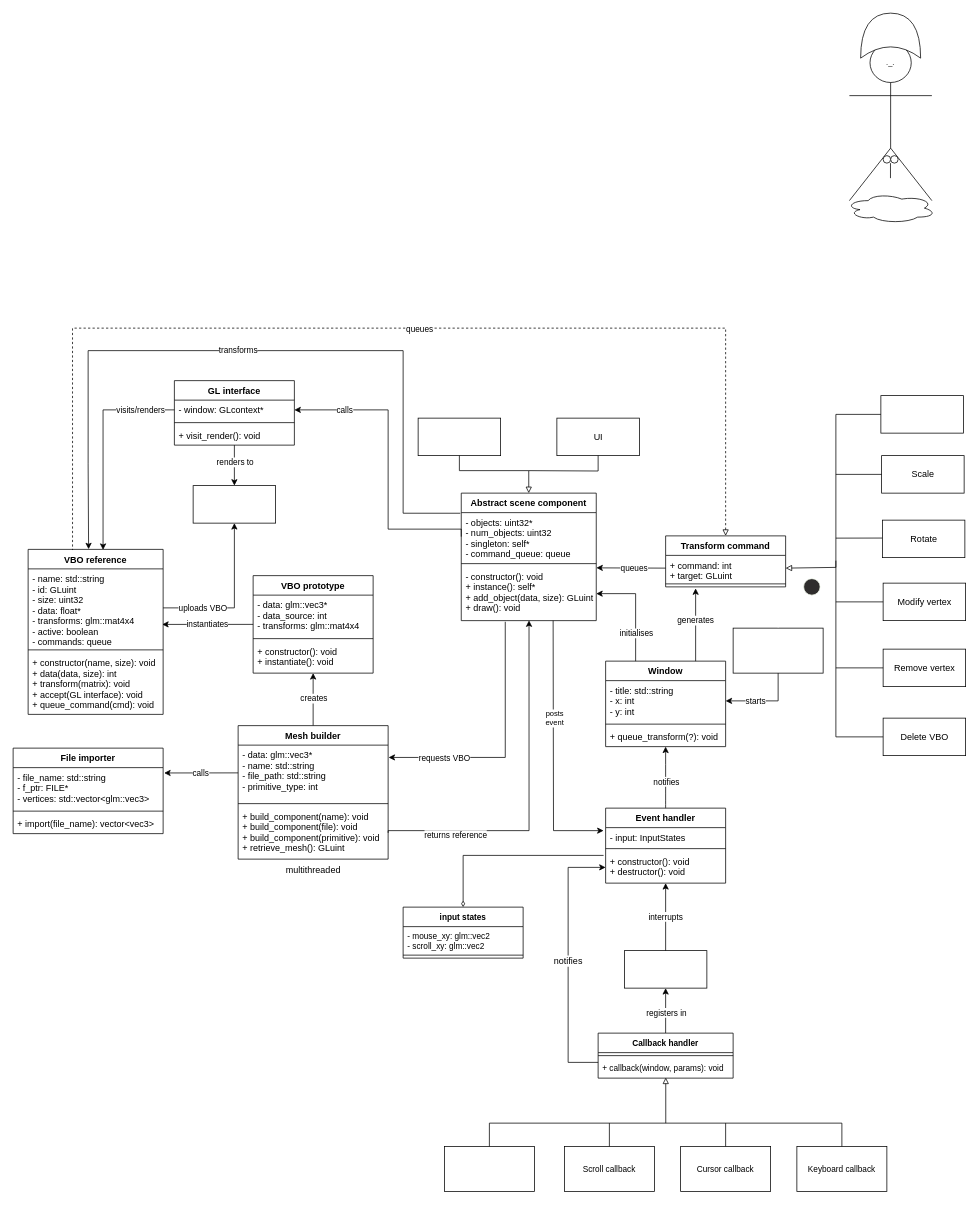
Some shapes in this 979 by 1205 pixel diagram are drawn without their labels. The centre of each missing label's shape, as x and y in pixels:
3D scene: pixel 459 436
GLFW I/O: pixel 665 969
Harness: pixel 777 650
Mouse button callback: pixel 489 1168
OpenGL API: pixel 234 504
Translate: pixel 921 414
your mom: pixel 890 121
